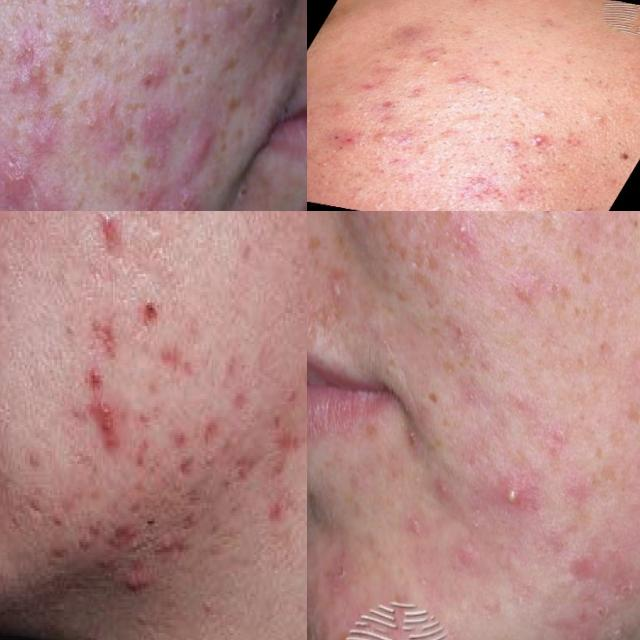acne_scars: (98, 308, 127, 373), (197, 404, 230, 451), (43, 529, 76, 573), (172, 454, 202, 501)
comedone: (556, 612, 601, 640), (512, 276, 534, 322), (527, 102, 571, 122), (497, 168, 534, 187), (498, 88, 532, 108), (428, 42, 463, 60), (576, 111, 608, 130)
cystic: (117, 563, 156, 596)
papule: (5, 36, 58, 113), (132, 98, 182, 168), (80, 211, 140, 258), (0, 157, 42, 211), (184, 111, 221, 171), (164, 183, 214, 211), (362, 129, 400, 149), (527, 128, 561, 150)
pustule: (498, 476, 540, 538)
sebo-crystan-conglo: (84, 396, 128, 461)
